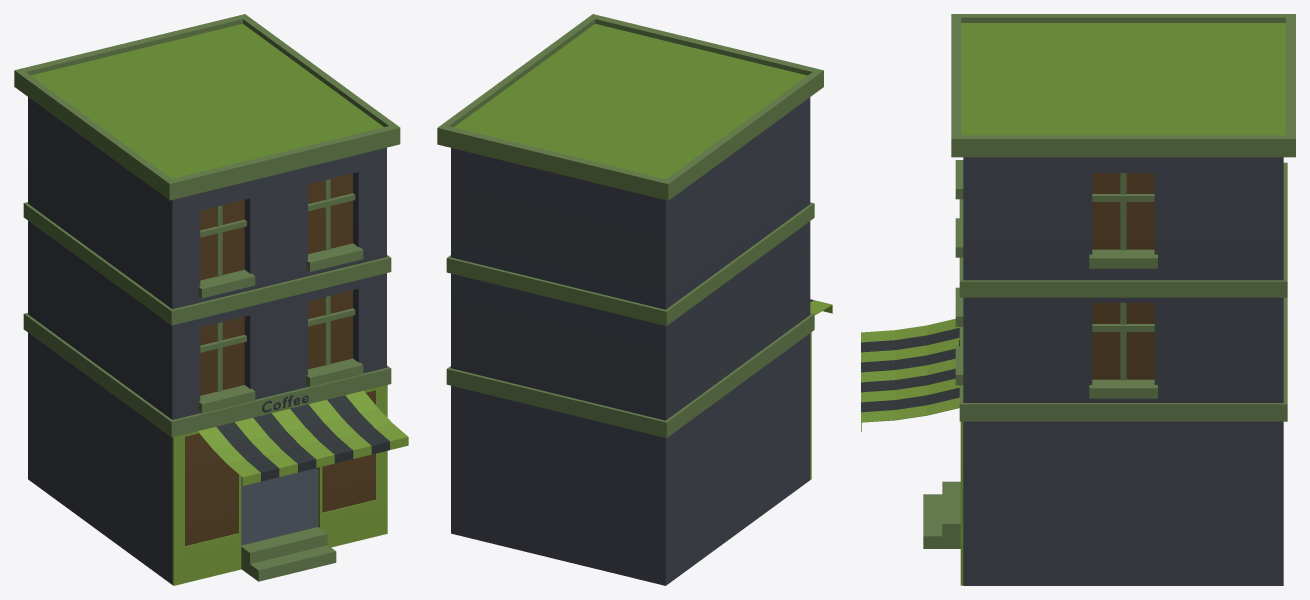
File: Coffe_02.fbx
3 views of the same model, side by side, from view 1: azimuth 30°, elevation 25°; view 2: azimuth 150°, elevation 25°; view 3: azimuth 270°, elevation 25° (orthographic). The views are drawn at different scales.
Parts seen in each view (by area): view 1: Coffe_02; view 2: Coffe_02; view 3: Coffe_02.
Boxes of the visible parts, left/top/right/bottom form: Coffe_02: left=14, top=14, right=408, bottom=585; Coffe_02: left=437, top=14, right=832, bottom=585; Coffe_02: left=861, top=14, right=1295, bottom=585.
Size of the model in its own units: 4.85 by 8.17 by 7.13.
